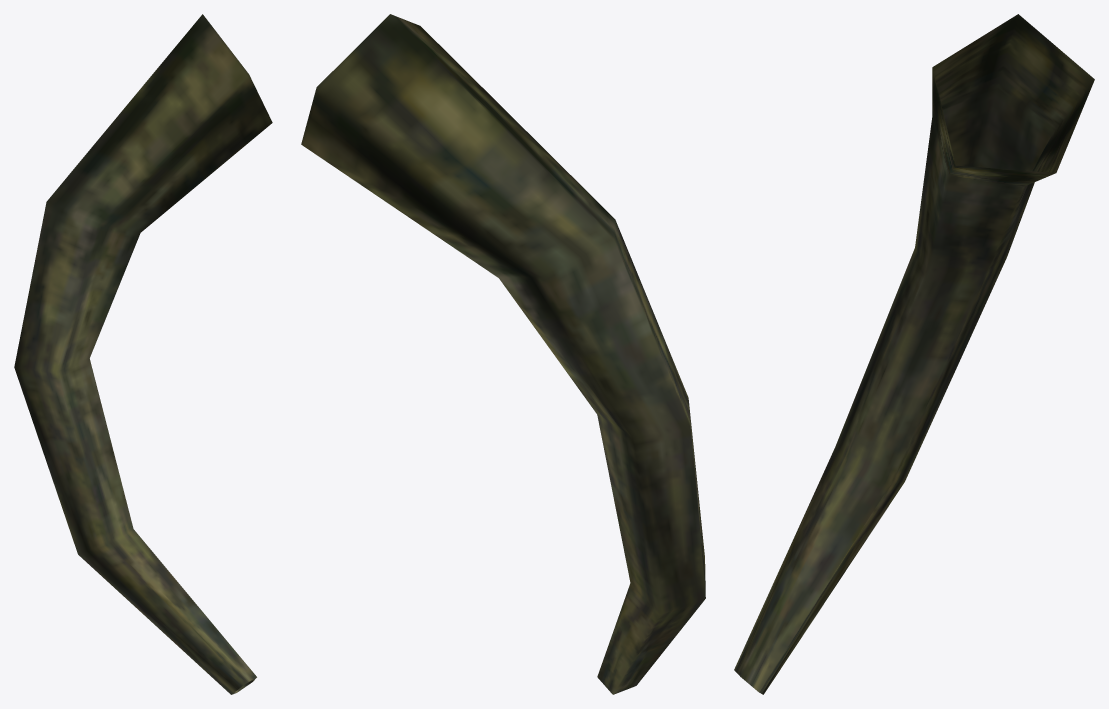
Rendered from OVERHILL_A_01_LINE336.fbx.
The picture shows the model from 3 angles, left to right: view 1: azimuth 30°, elevation 25°; view 2: azimuth 150°, elevation 25°; view 3: azimuth 270°, elevation 25°; orthographic projection. The views are drawn at different scales.
Visible parts, largest first — view 1: OVERHILL_A_01_LINE336; view 2: OVERHILL_A_01_LINE336; view 3: OVERHILL_A_01_LINE336.
Boxes of the visible parts, <box> form: OVERHILL_A_01_LINE336: <box>14,14,272,694</box>; OVERHILL_A_01_LINE336: <box>301,14,705,694</box>; OVERHILL_A_01_LINE336: <box>734,14,1094,694</box>.
Size of the model in its own units: 8095 by 17168 by 7773.
1 material, 1 textured.
